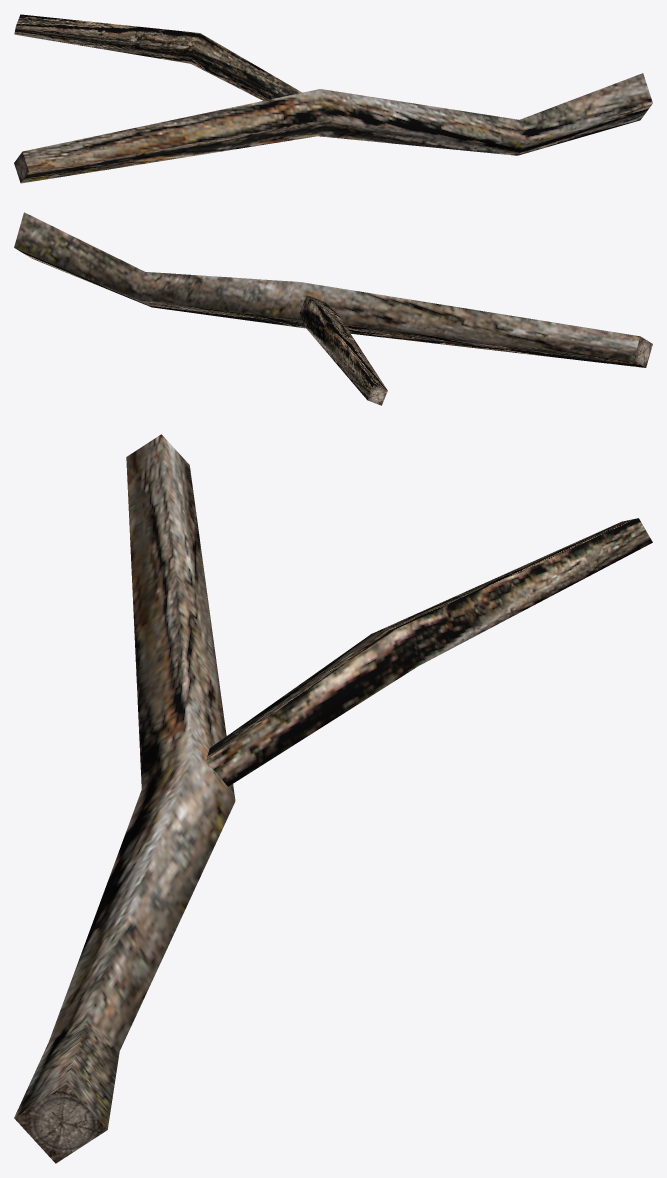
File: Branch1.fbx
The picture shows the model from 3 angles, top to bottom: view 1: azimuth 30°, elevation 25°; view 2: azimuth 150°, elevation 25°; view 3: azimuth 270°, elevation 25°; orthographic projection. The views are drawn at different scales.
Visible parts, largest first — view 1: polySurface4; view 2: polySurface4; view 3: polySurface4.
Boxes of the visible parts, x1=… form: polySurface4: x1=14, y1=14, x2=652, y2=183; polySurface4: x1=14, y1=212, x2=652, y2=405; polySurface4: x1=14, y1=434, x2=652, y2=1163.
Bounding box in the file's own units: 0.4735 × 0.0909 × 0.2282.
